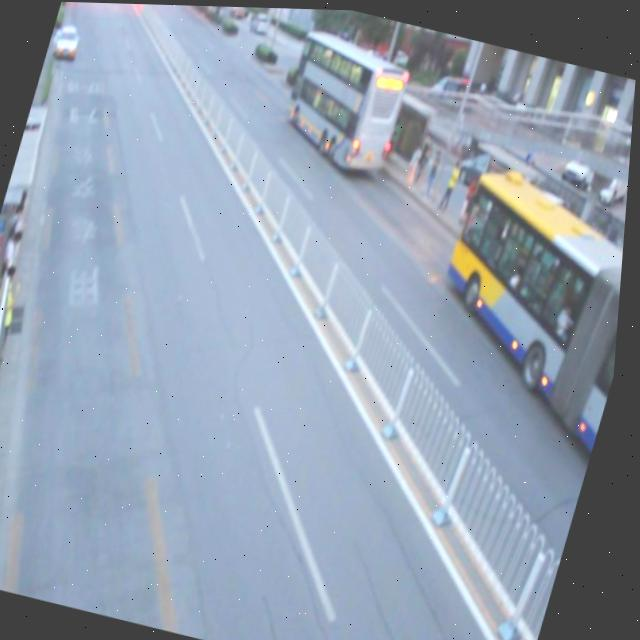van: (405, 157, 631, 460), (272, 22, 417, 175)
